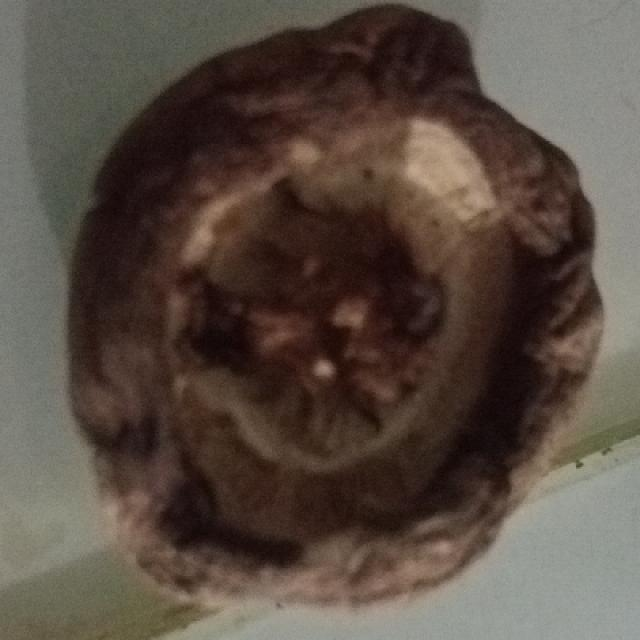Lentinus edodes: (65, 5, 608, 616)
